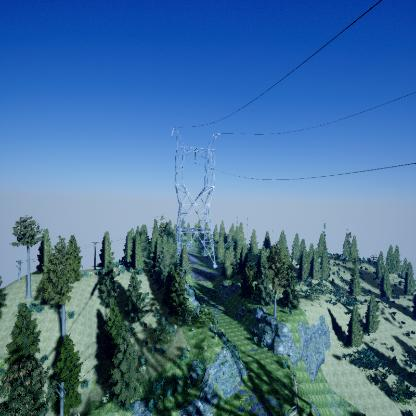tower: (167, 124, 223, 271)
